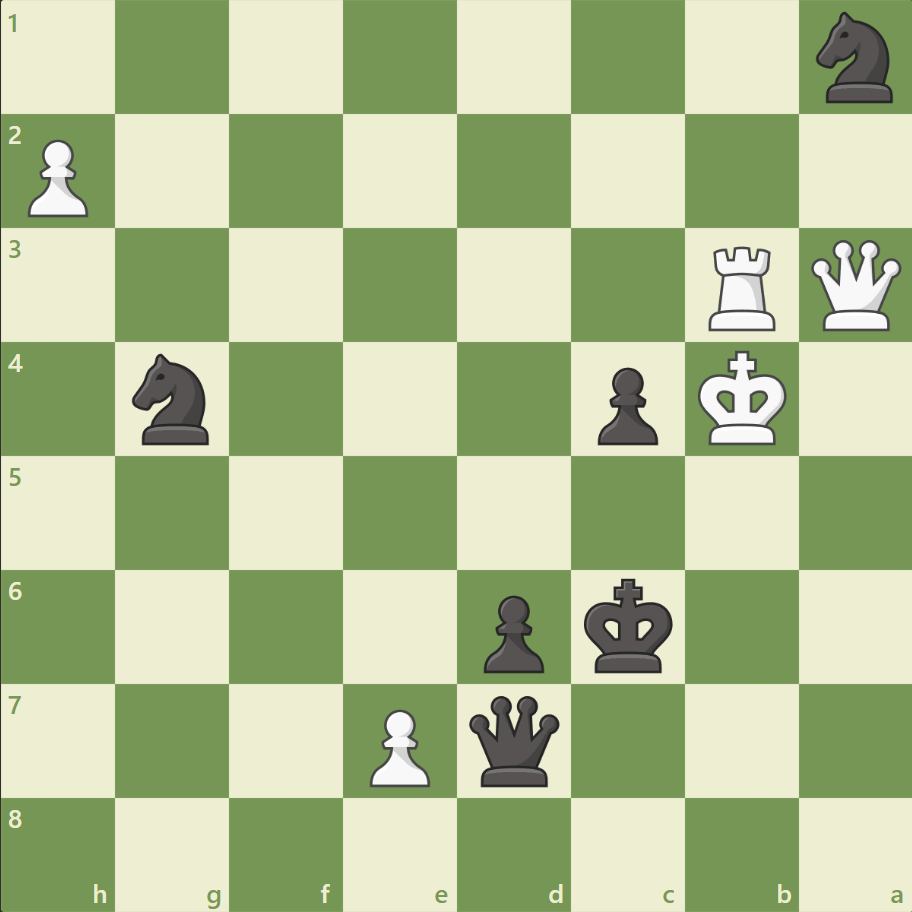K: (692, 344, 792, 452)
P: (20, 132, 95, 223), (361, 700, 435, 791)
Q: (805, 236, 904, 335)
R: (700, 239, 783, 336)
k: (579, 571, 679, 679)
n: (124, 348, 222, 450), (806, 7, 903, 110)
p: (474, 586, 549, 677), (588, 359, 662, 450)
q: (464, 690, 563, 789)
